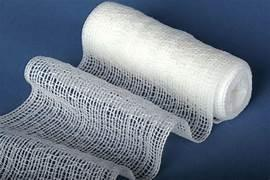cotton: (0, 2, 251, 179), (79, 2, 251, 141), (0, 57, 178, 178), (0, 127, 128, 179)
